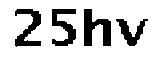2: (10, 4, 45, 51)
5: (49, 5, 79, 52)
h: (79, 5, 114, 50)
v: (115, 12, 153, 50)
